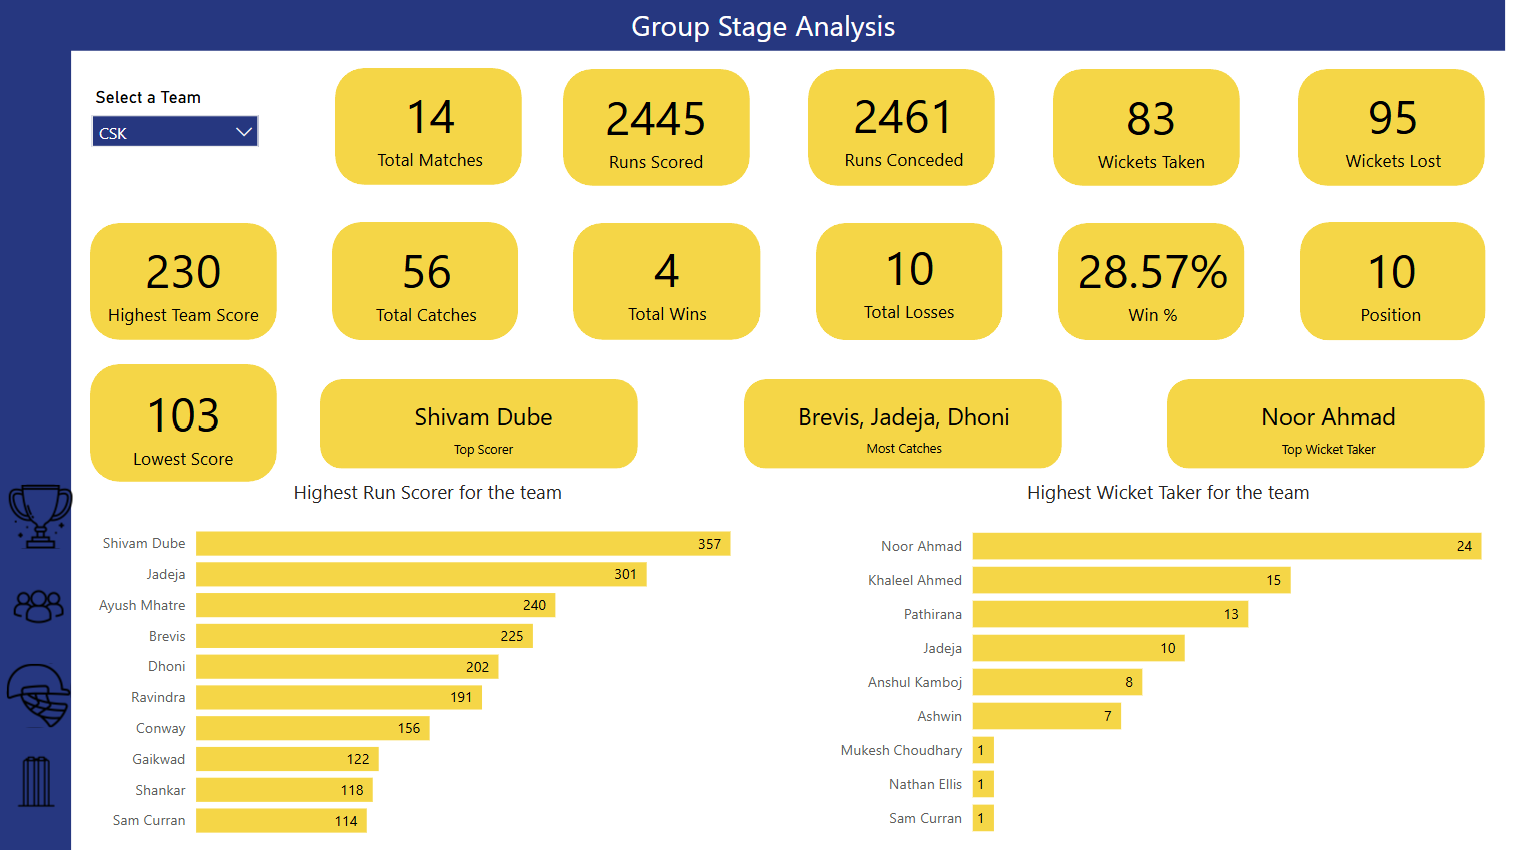

This screenshot's page, from the dashboard's own definition file:
{"tool":"powerbi","page":{"name":"Team Performance Metrics","canvas":[1280,720],"ordinal":1},"visuals":[{"type":"shape","box":[0,0,61.1,720],"z":0},{"type":"actionButton","box":[2.6,482.5,85.7,62],"z":1000},{"type":"actionButton","box":[2.6,557.6,85.7,62],"z":2000},{"type":"actionButton","box":[0,631.4,85.7,62],"z":3000},{"type":"actionButton","box":[4,406,85.7,62],"z":4000},{"type":"barChart","title":"Highest Run Scorer for the team","fields":{"Category":["Striker_Stats.striker"],"Y":["Striker_Stats.Total_Runs"]},"box":[72.5,405,580,315],"z":5000},{"type":"slicer","fields":{"Values":["Teams.Team"]},"box":[68.1,70,161.2,77.5],"z":6000},{"type":"barChart","title":"Highest Wicket Taker for the team","fields":{"Category":["Bowler_Stats.bowler"],"Y":["Bowler_Stats.Total_Wickets"]},"box":[698.8,405,581.2,315],"z":7000},{"type":"shape","box":[284.3,58.4,158.2,98.9],"z":8000},{"type":"card","fields":{"Values":["Measures Table.Total Matches"]},"box":[272.2,45,184.6,125.2],"z":9000},{"type":"shape","box":[477.6,59.5,158.2,98.9],"z":10000},{"type":"card","fields":{"Values":["TeamMeasuresTable.Total Runs Scored"]},"box":[464,46.1,184.6,125.2],"z":11000},{"type":"shape","box":[684.6,59.5,158.2,98.9],"z":12000},{"type":"card","fields":{"Values":["TeamMeasuresTable.Total Runs Conceded"]},"box":[673.6,44.8,184.6,125.2],"z":13000},{"type":"shape","box":[891.7,59.5,158.2,98.9],"z":14000},{"type":"card","fields":{"Values":["TeamMeasuresTable.Total Wickets Taken"]},"box":[880.6,46.1,188.5,125.2],"z":15000},{"type":"shape","box":[1098.8,59.5,158.2,98.9],"z":16000},{"type":"card","fields":{"Values":["TeamMeasuresTable.Total Wickets Lost"]},"box":[1094.4,52.5,171.2,111.2],"z":17000},{"type":"shape","box":[485.9,189.9,158.8,98.8],"z":18000},{"type":"card","fields":{"Values":["TeamMeasuresTable.Total Wins"]},"box":[473.1,176.2,185,123.8],"z":19000},{"type":"shape","box":[691.5,189.7,157.8,99.1],"z":20000},{"type":"card","fields":{"Values":["TeamMeasuresTable.Total Losses"]},"box":[677.6,174,184.6,123.9],"z":21000},{"type":"shape","box":[896.1,189.7,157.8,99.1],"z":22000},{"type":"card","fields":{"Values":["TeamMeasuresTable.Win %"]},"box":[884.4,175.9,184.3,124.4],"z":23000},{"type":"shape","box":[1100.6,188.3,157.2,100.5],"z":24000},{"type":"card","fields":{"Values":["PointsTable.Position"]},"box":[1085.4,175.9,184.3,124.4],"z":25000},{"type":"shape","box":[271.9,321.7,268.9,75.1],"z":26000},{"type":"card","fields":{"Values":["TeamMeasuresTable.Top Scorer Name"]},"box":[313.4,312.3,193.5,100.2],"z":27000},{"type":"shape","box":[988.1,321.7,268.9,75.1],"z":28000},{"type":"card","fields":{"Values":["TeamMeasuresTable.Top Wicket Taker"]},"box":[1024.6,312.3,200.4,100.2],"z":29000},{"type":"shape","box":[630,321.7,268.9,75.1],"z":30000},{"type":"shape","box":[281.7,188.8,157.5,100],"z":31000},{"type":"card","fields":{"Values":["Fielding_Stats.Total_Catches"]},"box":[261,188.5,201.7,100.2],"z":32000},{"type":"card","fields":{"Values":["TeamMeasuresTable.Top_Fielders"]},"box":[665.1,311.2,201.2,101.2],"z":33000},{"type":"shape","box":[76.7,189.9,158.2,98.9],"z":34000},{"type":"card","fields":{"Values":["Measures Table.Highest Team Score"]},"box":[63.1,176.2,185,125],"z":35000},{"type":"shape","box":[77.4,308.9,158.2,98.9],"z":36000},{"type":"shape","box":[47.2,0,1226.9,43.8],"z":36500},{"type":"card","fields":{"Values":["TeamMeasuresTable.Lowest Score"]},"box":[63.3,296.6,184.6,125.2],"z":37000},{"type":"textbox","box":[210,0,873.8,43.8],"z":39000}]}

Visuals, with their boxes in screenshot pixels (x1, y1, x2, y2), scaled from the page's 1280x720 canvas onto the 1520x850 screenshot:
shape: l=0, t=0, r=73, b=849
actionButton: l=3, t=570, r=105, b=643
actionButton: l=3, t=658, r=105, b=731
actionButton: l=0, t=745, r=102, b=819
actionButton: l=5, t=479, r=107, b=552
"Highest Run Scorer for the team" barChart: l=86, t=478, r=775, b=849
slicer - Teams.Team: l=81, t=83, r=272, b=174
"Highest Wicket Taker for the team" barChart: l=830, t=478, r=1519, b=849
shape: l=338, t=69, r=525, b=186
card - Measures Table.Total Matches: l=323, t=53, r=542, b=201
shape: l=567, t=70, r=755, b=187
card - TeamMeasuresTable.Total Runs Scored: l=551, t=54, r=770, b=202
shape: l=813, t=70, r=1001, b=187
card - TeamMeasuresTable.Total Runs Conceded: l=800, t=53, r=1019, b=201
shape: l=1059, t=70, r=1247, b=187
card - TeamMeasuresTable.Total Wickets Taken: l=1046, t=54, r=1270, b=202
shape: l=1305, t=70, r=1493, b=187
card - TeamMeasuresTable.Total Wickets Lost: l=1300, t=62, r=1503, b=193
shape: l=577, t=224, r=766, b=341
card - TeamMeasuresTable.Total Wins: l=562, t=208, r=781, b=354
shape: l=821, t=224, r=1009, b=341
card - TeamMeasuresTable.Total Losses: l=805, t=205, r=1024, b=352
shape: l=1064, t=224, r=1252, b=341
card - TeamMeasuresTable.Win %: l=1050, t=208, r=1269, b=355
shape: l=1307, t=222, r=1494, b=341
card - PointsTable.Position: l=1289, t=208, r=1508, b=355
shape: l=323, t=380, r=642, b=468
card - TeamMeasuresTable.Top Scorer Name: l=372, t=369, r=602, b=487
shape: l=1173, t=380, r=1493, b=468
card - TeamMeasuresTable.Top Wicket Taker: l=1217, t=369, r=1455, b=487
shape: l=748, t=380, r=1067, b=468
shape: l=335, t=223, r=522, b=341
card - Fielding_Stats.Total_Catches: l=310, t=223, r=549, b=341
card - TeamMeasuresTable.Top_Fielders: l=790, t=367, r=1029, b=487
shape: l=91, t=224, r=279, b=341
card - Measures Table.Highest Team Score: l=75, t=208, r=295, b=356
shape: l=92, t=365, r=280, b=481
shape: l=56, t=0, r=1513, b=52
card - TeamMeasuresTable.Lowest Score: l=75, t=350, r=294, b=498
textbox: l=249, t=0, r=1287, b=52
